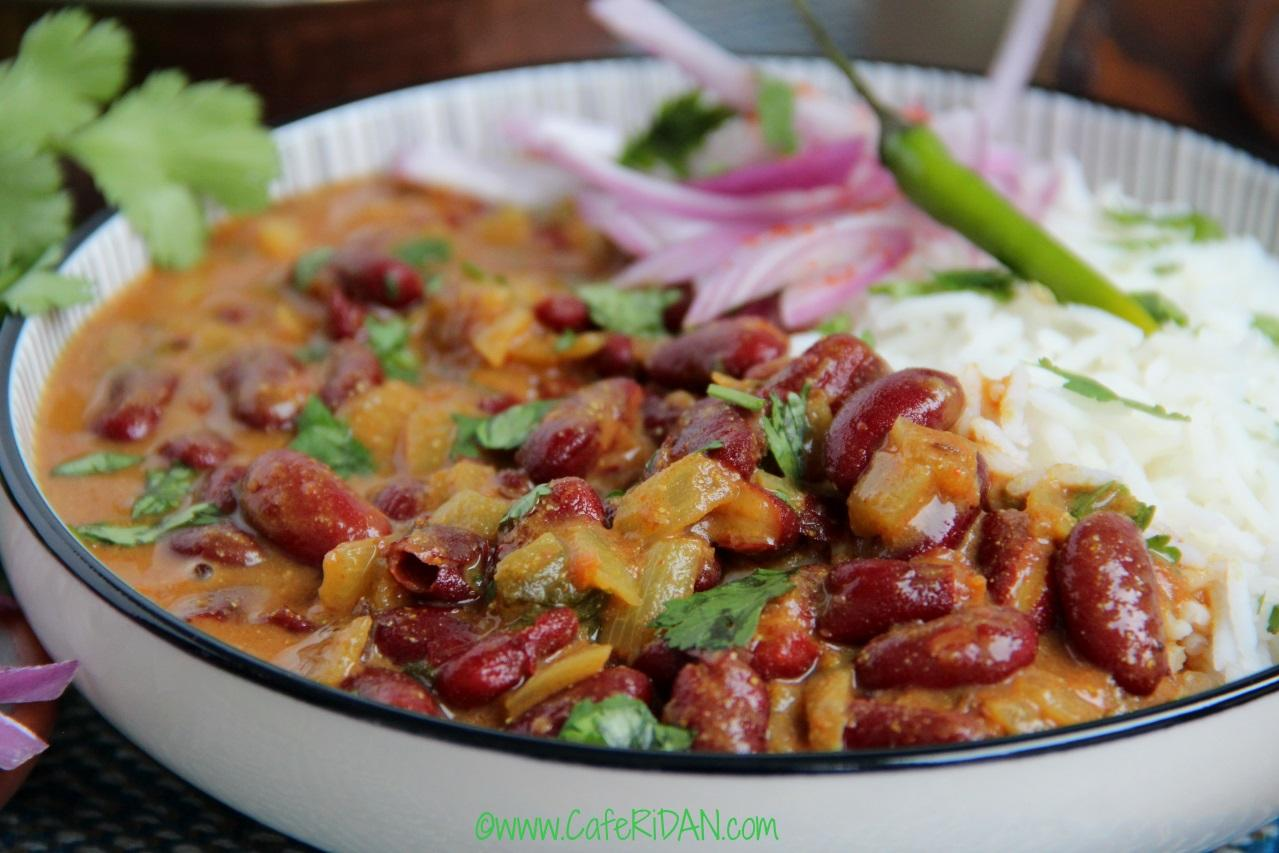rajma: (60, 270, 884, 756)
